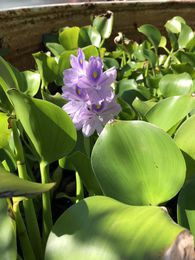water_hyacinth: (1, 47, 195, 260)
